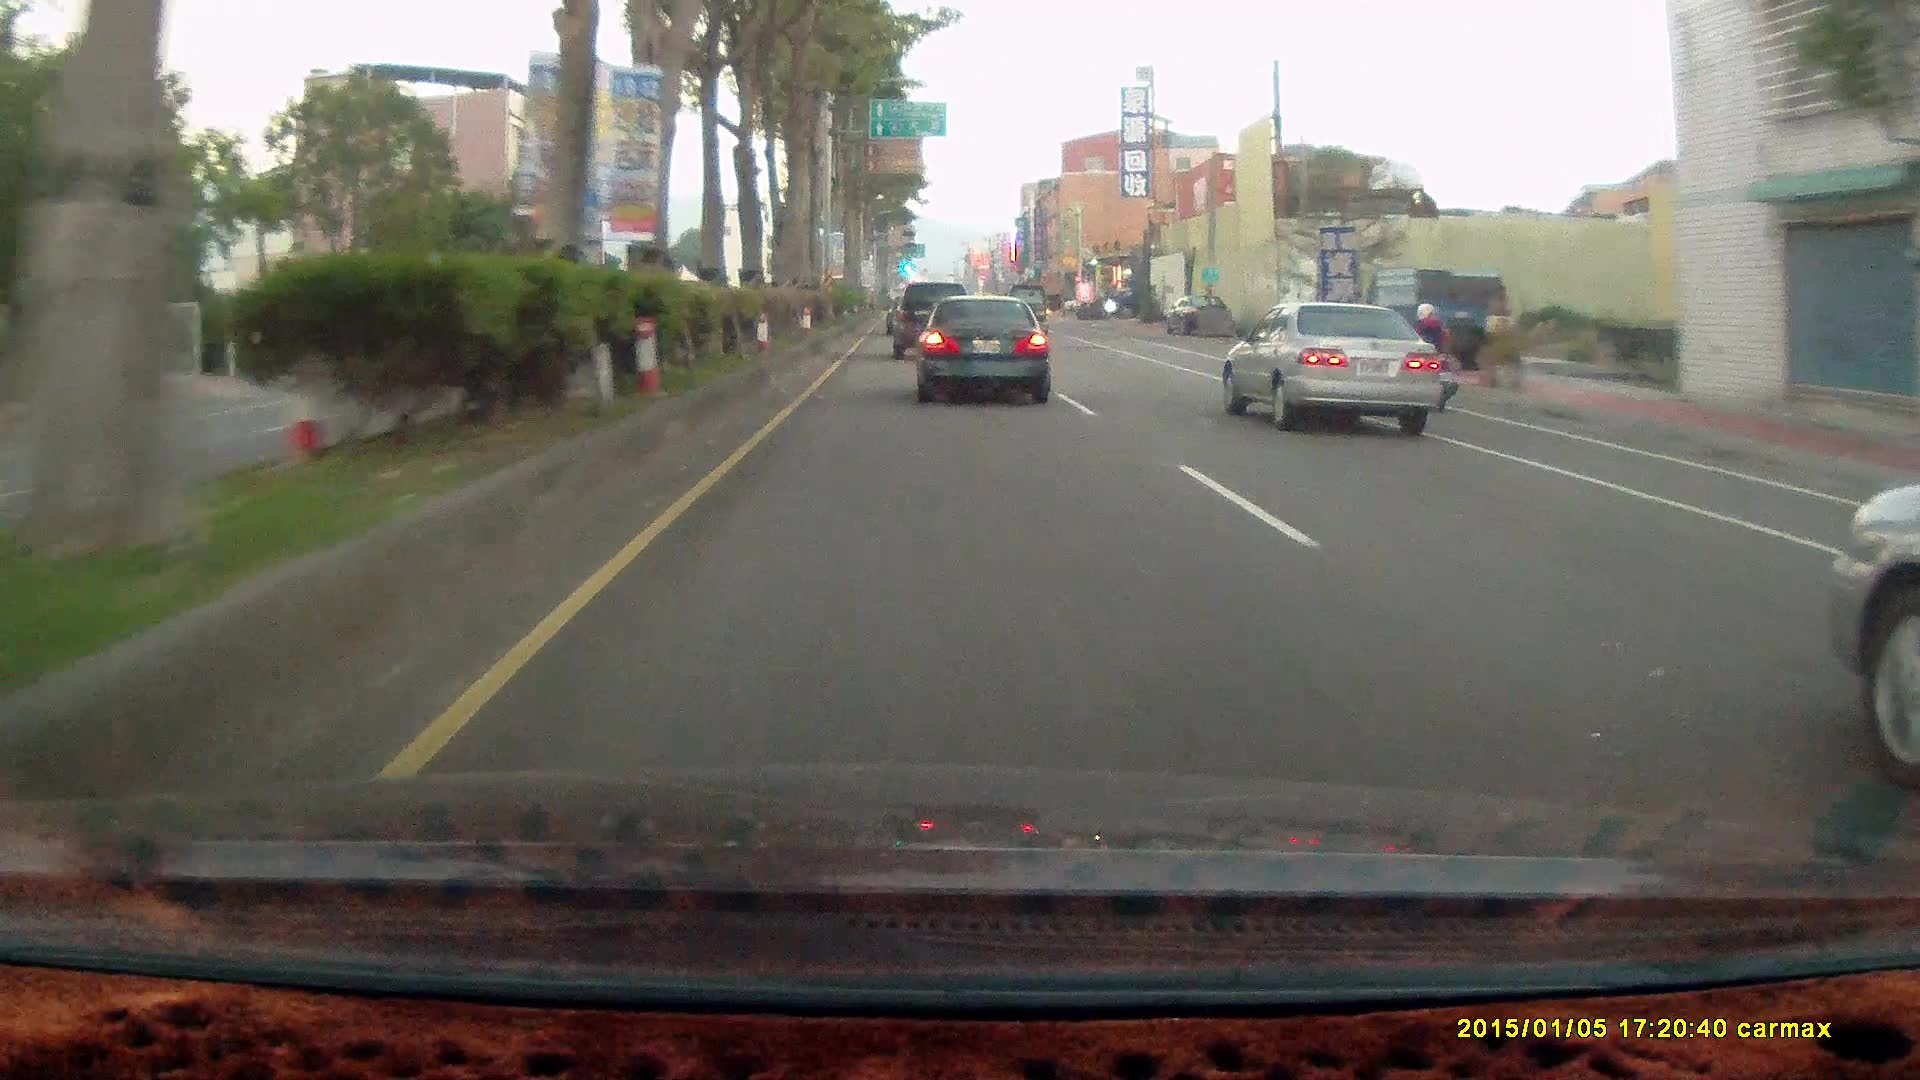rider: (1392, 293, 1462, 415), (1391, 301, 1455, 414)
vehicle: (1221, 299, 1442, 436), (1232, 302, 1448, 439), (911, 294, 1050, 405), (916, 297, 1053, 403), (1368, 268, 1507, 369), (889, 282, 972, 360), (1163, 295, 1236, 342), (1100, 282, 1164, 319), (1002, 282, 1048, 332)
